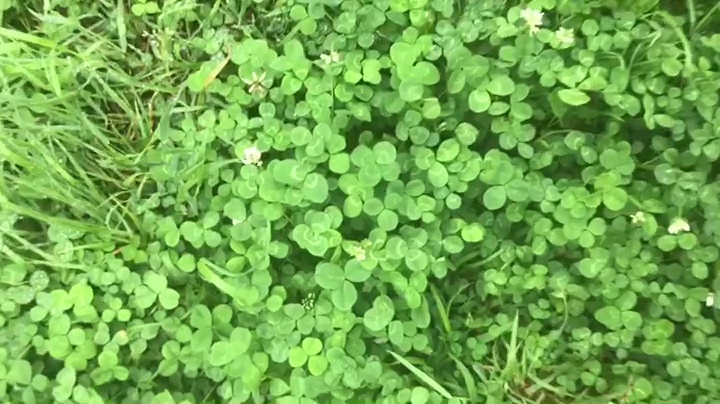4-clover: (351, 140, 400, 185)
